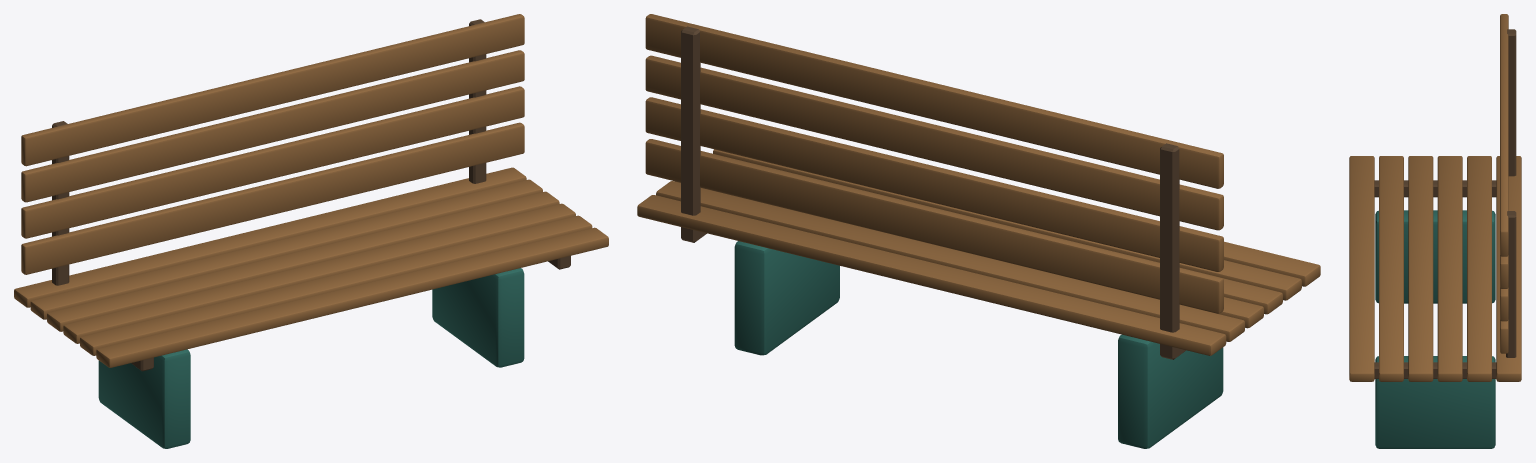
Rendered from garden-bench.glb.
3 views of the same model, side by side, from view 1: azimuth 30°, elevation 25°; view 2: azimuth 150°, elevation 25°; view 3: azimuth 270°, elevation 25° (orthographic). The views are drawn at different scales.
Visible parts, largest first — view 1: garden-bench; view 2: garden-bench; view 3: garden-bench.
Boxes of the visible parts, x1=… form: garden-bench: x1=14, y1=14, x2=608, y2=448; garden-bench: x1=637, y1=14, x2=1320, y2=448; garden-bench: x1=1349, y1=14, x2=1521, y2=448.
Size of the model in its own units: 3 by 1.6 by 1.
